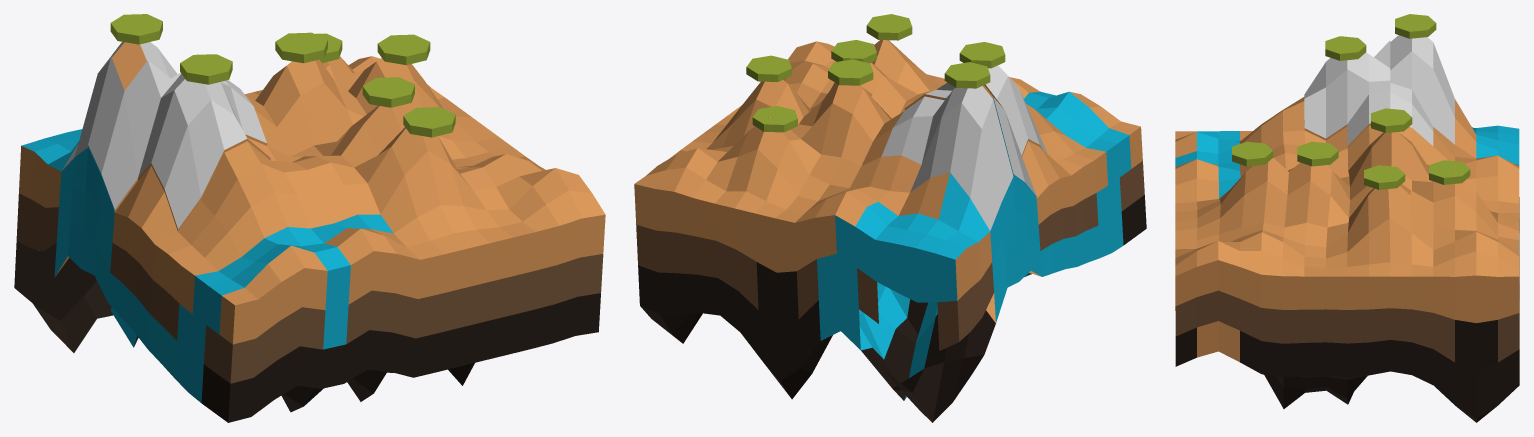
File: maplvlv2.fbx
3 renders of one model, left to right at view 1: azimuth 30°, elevation 25°; view 2: azimuth 150°, elevation 25°; view 3: azimuth 270°, elevation 25°, orthographic. The views are drawn at different scales.
Visible parts, largest first — view 1: Montanha, lvl0, lvl3, lvl5, lvl2, lvl6, lvl4; view 2: Montanha, lvl6, lvl3, lvl4, lvl0, lvl1, lvl5, lvl2; view 3: Montanha, lvl2, lvl0, lvl6, lvl5, lvl3, lvl1, lvl4.
Part boxes in pixels (x1,y1,x2,y2): Montanha: [14, 42, 605, 422]; lvl0: [377, 34, 430, 65]; lvl3: [403, 107, 455, 137]; lvl5: [180, 54, 232, 84]; lvl2: [362, 77, 414, 107]; lvl6: [110, 14, 162, 44]; lvl4: [275, 32, 327, 63]; Montanha: [634, 40, 1146, 422]; lvl6: [944, 62, 990, 88]; lvl3: [866, 14, 912, 40]; lvl4: [828, 59, 873, 85]; lvl0: [746, 55, 791, 81]; lvl1: [752, 106, 797, 132]; lvl5: [959, 42, 1005, 68]; lvl2: [831, 40, 876, 63]; Montanha: [1175, 35, 1519, 422]; lvl2: [1297, 141, 1338, 166]; lvl0: [1364, 165, 1405, 189]; lvl6: [1395, 14, 1436, 38]; lvl5: [1325, 36, 1366, 60]; lvl3: [1232, 141, 1273, 166]; lvl1: [1429, 160, 1470, 184]; lvl4: [1371, 108, 1412, 132].
Bounding box in the file's own units: 16.14 × 15.4 × 15.86.
